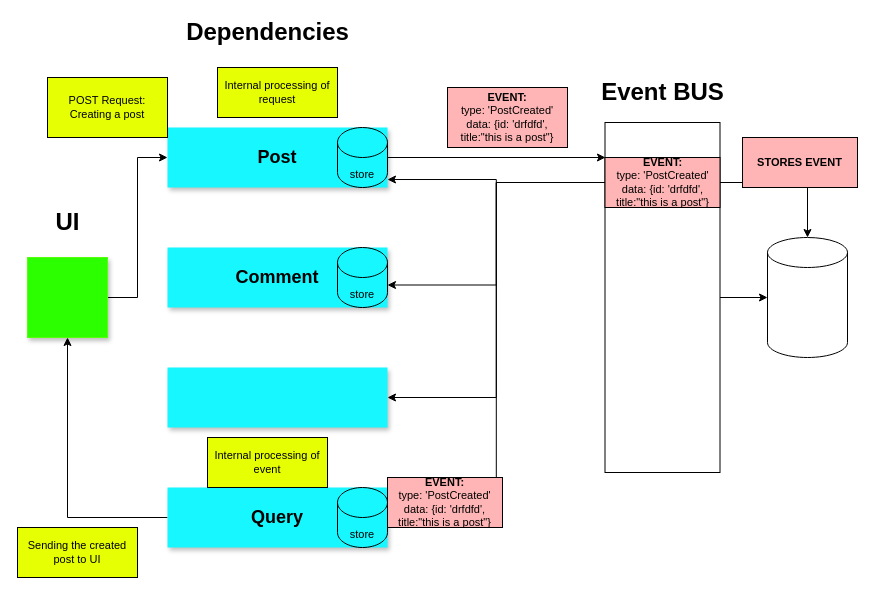
Some shapes in this 875 by 595 pixel diagram are drawn without their labels. Each missing label, with the centre of its shape:
event storage: (807,297)
Moderation: (278,398)
React: (68,298)
